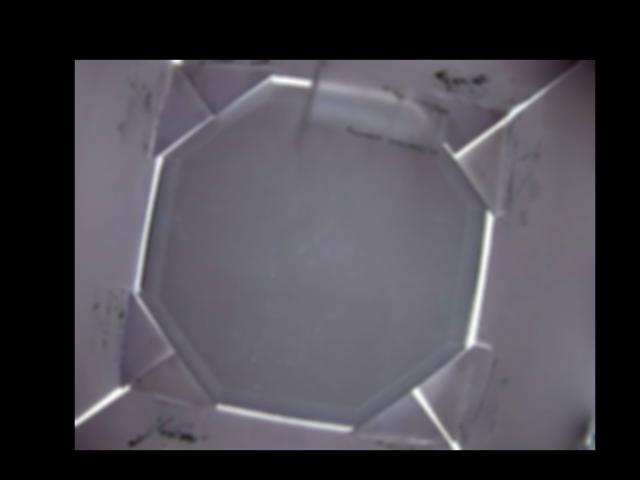Cup: (294, 63, 448, 172)
